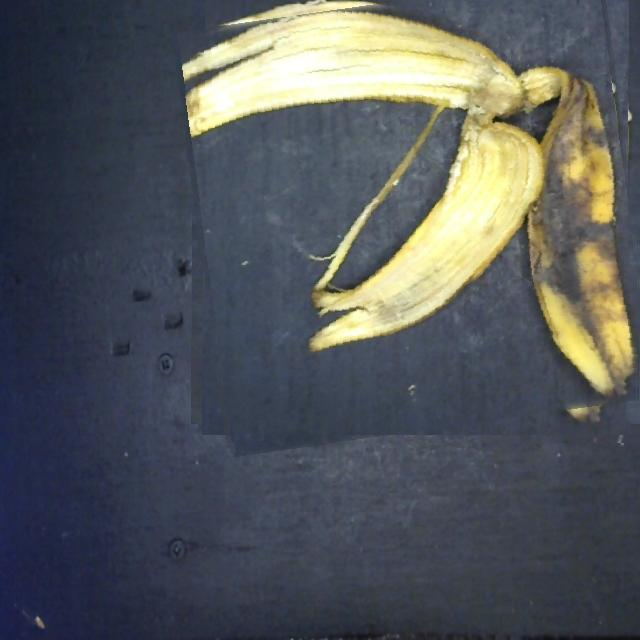biodegradable: (185, 0, 640, 443)
